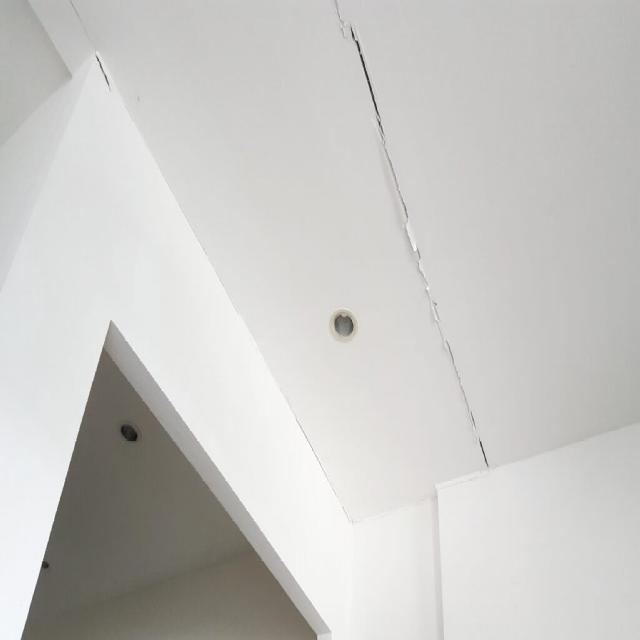Crack: (350, 24, 490, 472), (276, 383, 356, 527), (67, 1, 112, 89), (331, 2, 346, 41)
